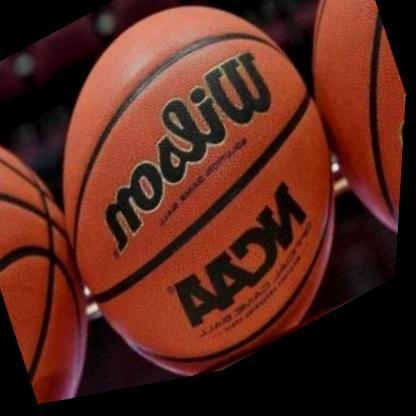basketball: (1, 0, 394, 413), (254, 0, 416, 319), (0, 70, 149, 416)
